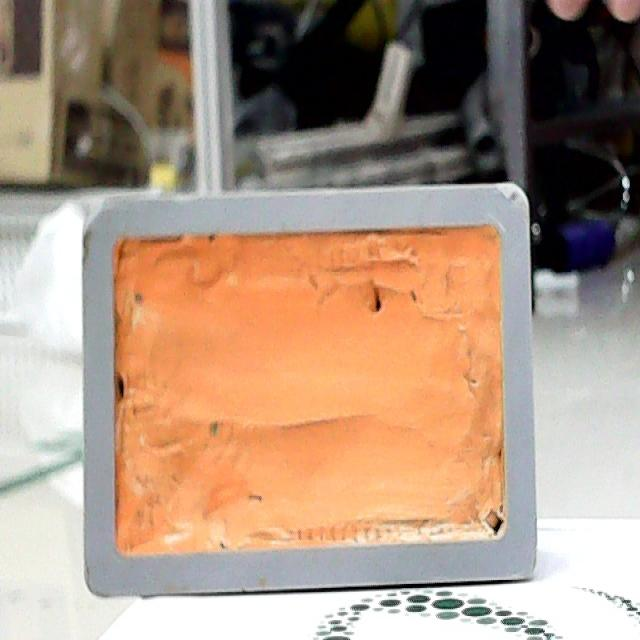block: (82, 187, 538, 592)
